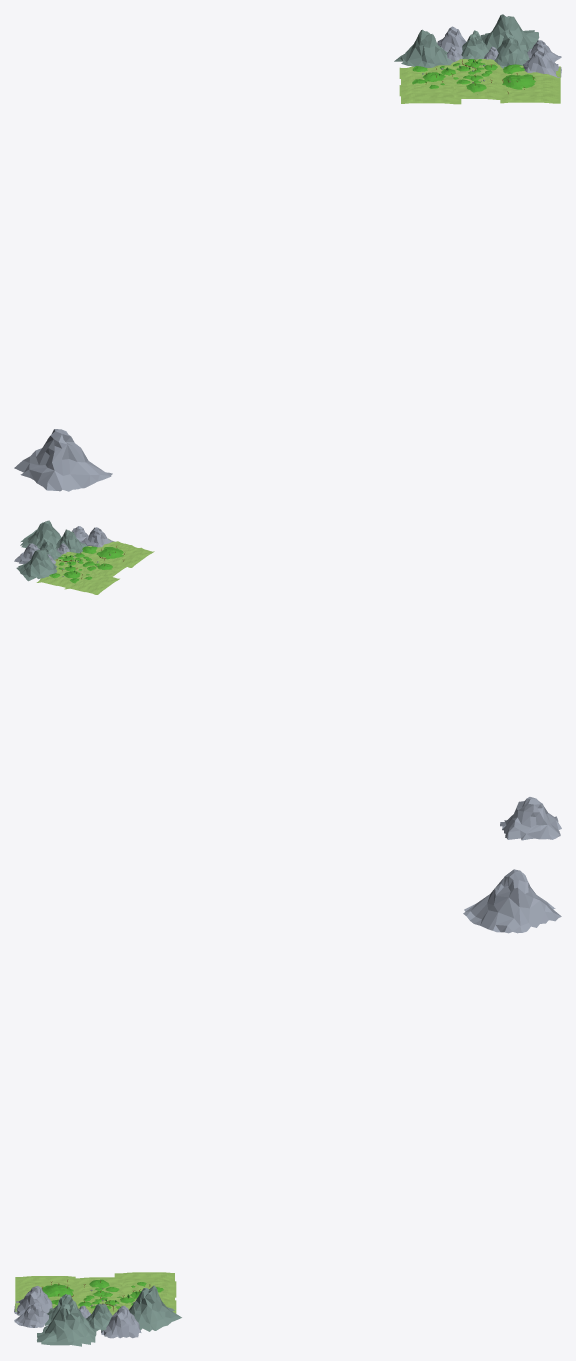
Rendered from mori.fbx.
The picture shows the model from 3 angles, top to bottom: view 1: azimuth 90°, elevation 25°; view 2: azimuth 150°, elevation 25°; view 3: azimuth 270°, elevation 25°; orthographic projection. The views are drawn at different scales.
Parts seen in each view (by area): view 1: mountain2, mountain3, terrain_yellow9, mountain10, terrain_yellow11, terrain_yellow8, mountain7, mountain6, terrain_yellow10, terrain_yellow7; view 2: mountain2, mountain3, terrain_yellow9, mountain10, terrain_yellow11, terrain_yellow8, terrain_yellow10; view 3: mountain2, mountain10, mountain3, terrain_yellow9, mountain8, terrain_yellow8, terrain_yellow11, mountain6.
Boxes of the visible parts, x1,y1,x2,y2 form: mountain2: (14, 429, 112, 491); mountain3: (394, 29, 463, 67); terrain_yellow9: (399, 82, 461, 104); mountain10: (480, 14, 539, 51); terrain_yellow11: (500, 82, 560, 103); terrain_yellow8: (450, 78, 504, 99); mountain7: (494, 33, 529, 68); mountain6: (523, 47, 561, 77); terrain_yellow10: (399, 65, 455, 86); terrain_yellow7: (451, 59, 503, 78); mountain2: (500, 797, 561, 840); mountain3: (16, 549, 56, 581); terrain_yellow9: (64, 571, 119, 594); mountain10: (20, 520, 61, 548); terrain_yellow11: (110, 543, 154, 567); terrain_yellow8: (81, 557, 129, 577); terrain_yellow10: (36, 565, 83, 588); mountain2: (463, 869, 561, 933); mountain10: (37, 1299, 96, 1346); mountain3: (129, 1285, 181, 1331); terrain_yellow9: (114, 1272, 176, 1297); mountain8: (101, 1306, 141, 1338); terrain_yellow8: (71, 1277, 125, 1299); terrain_yellow11: (15, 1276, 75, 1295); mountain6: (14, 1286, 52, 1315).
Size of the model in its own units: 2331 by 111 by 1184.
